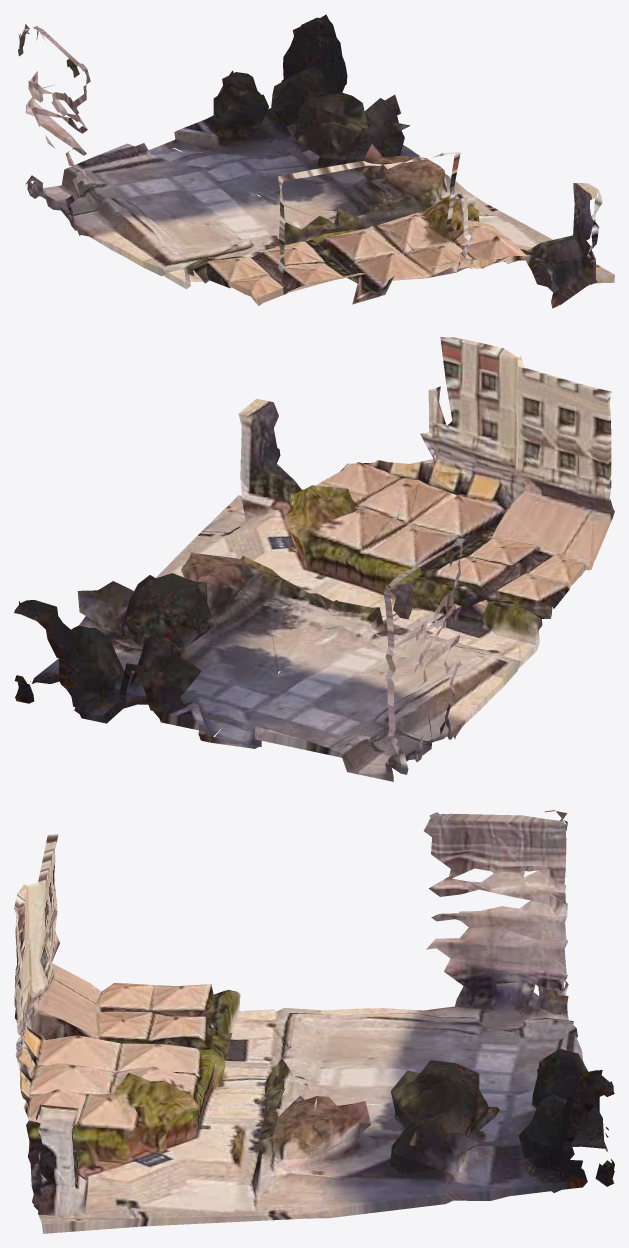
3 views of the same model, one above another, from view 1: azimuth 30°, elevation 25°; view 2: azimuth 150°, elevation 25°; view 3: azimuth 270°, elevation 25° (orthographic). The views are drawn at different scales.
Parts seen in each view (by area): view 1: Mesh_0; view 2: Mesh_0; view 3: Mesh_0.
Boxes of the visible parts, box(x1,y1,x2,y2) form: Mesh_0: box(18, 14, 614, 308); Mesh_0: box(14, 337, 614, 781); Mesh_0: box(14, 810, 614, 1233).
Bounding box in the file's own units: 33.75 × 16.27 × 39.91.
1 material, 1 textured.
